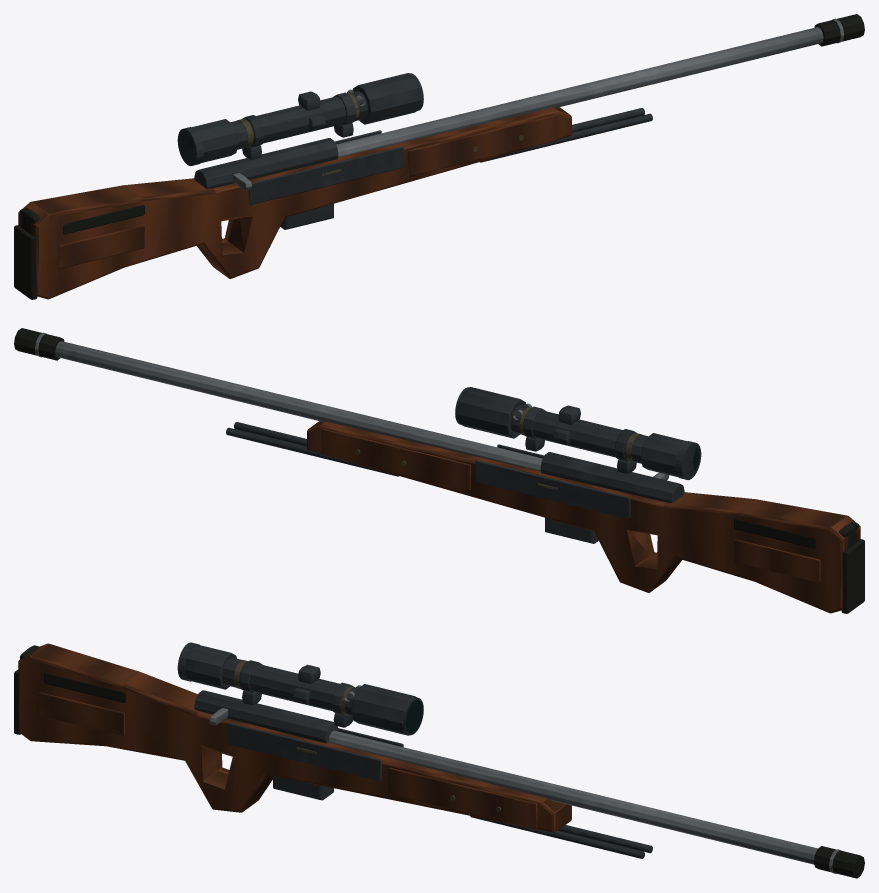
Rendered from sniper.glb.
3 renders of one model, top to bottom at view 1: azimuth 30°, elevation 25°; view 2: azimuth 150°, elevation 25°; view 3: azimuth 330°, elevation 25°, orthographic.
Parts seen in each view (by area): view 1: sniper_premium; view 2: sniper_premium; view 3: sniper_premium.
Part boxes in pixels (x1,y1,x2,y2): sniper_premium: (14,14,864,299); sniper_premium: (14,328,864,613); sniper_premium: (14,642,864,878).
Size of the model in its own units: 1.46 by 0.2609 by 0.094.
Materials: 7 (7 with a texture image).
